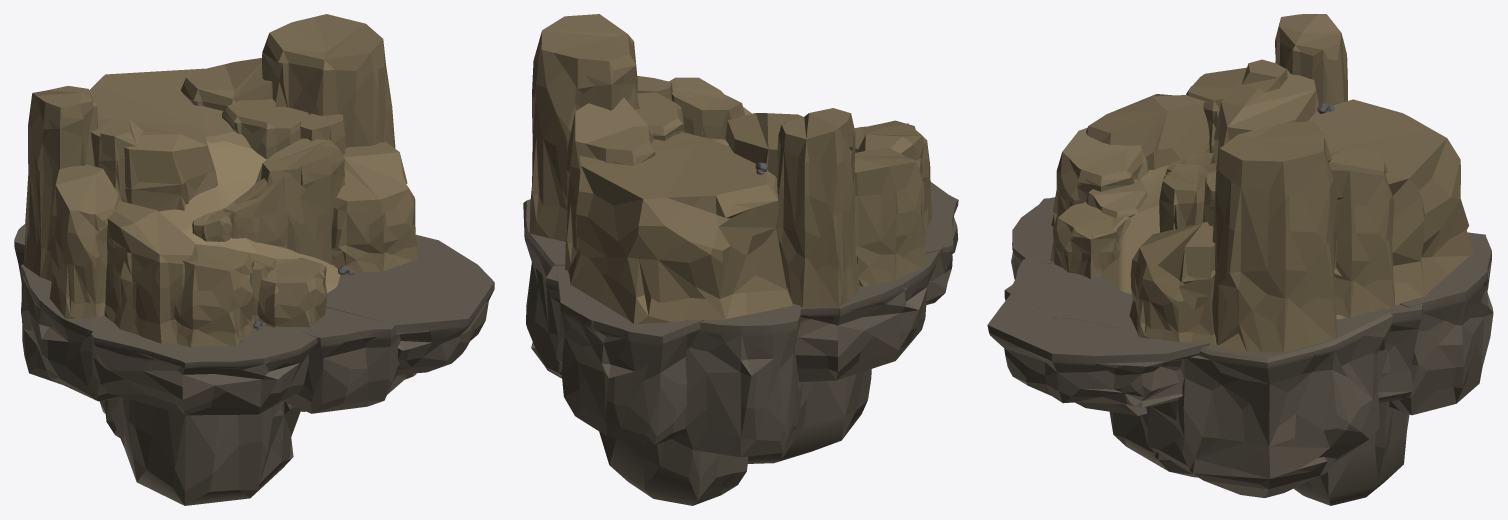
File: NEPlateauIslandV3.fbx
3 renders of one model, left to right at view 1: azimuth 30°, elevation 25°; view 2: azimuth 150°, elevation 25°; view 3: azimuth 270°, elevation 25°, orthographic. The views are drawn at different scales.
Visible parts, largest first — view 1: CombinedIsland; view 2: CombinedIsland; view 3: CombinedIsland.
Boxes of the visible parts, <box> form: CombinedIsland: <box>14,14,494,505</box>; CombinedIsland: <box>523,14,958,505</box>; CombinedIsland: <box>987,14,1493,505</box>.
Size of the model in its own units: 33.08 by 32.98 by 37.59.
